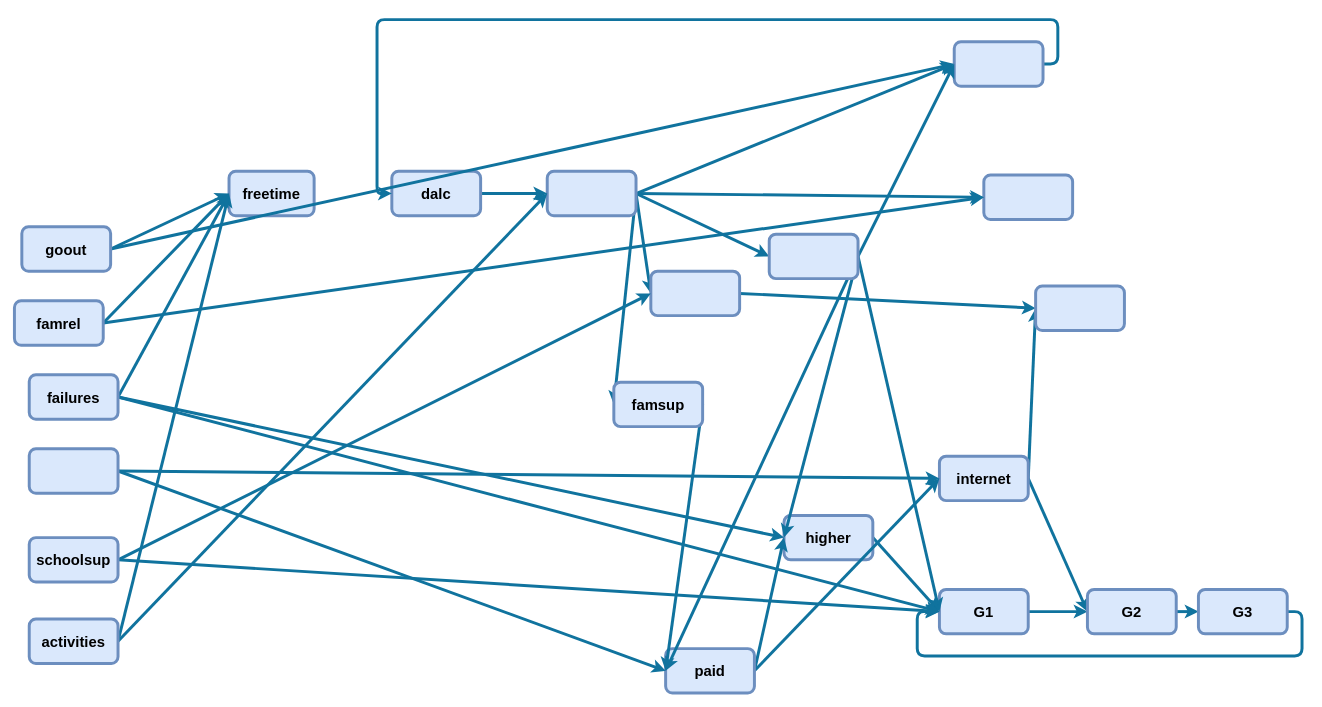
Image size: 1322x707. Some labels were removed from this diagram. Each missing label, with the centre of its shape:
"absences" goes at pixel 1080 308.
"address" goes at pixel 73 470.
"health" goes at pixel 1028 197.
"romantic" goes at pixel 695 293.
"sex" goes at pixel 591 193.
"studytime" goes at pixel 813 256.
"walc" goes at pixel 998 63.
